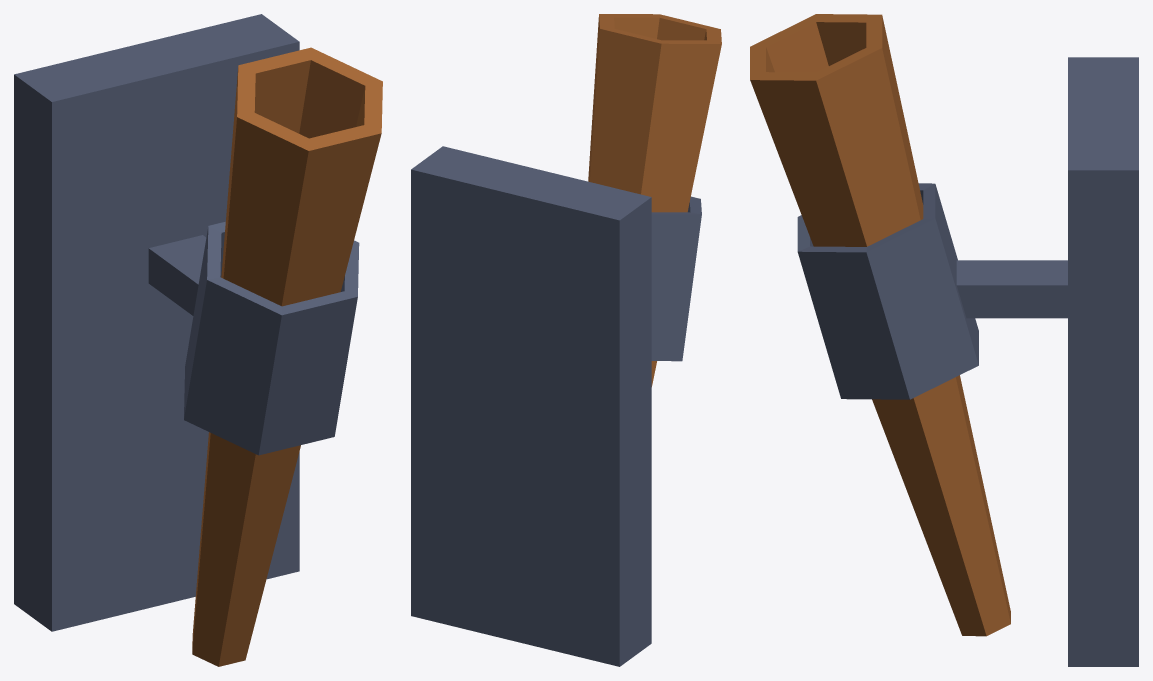
The model's file is tourch.fbx.
The picture shows the model from 3 angles, left to right: view 1: azimuth 30°, elevation 25°; view 2: azimuth 150°, elevation 25°; view 3: azimuth 270°, elevation 25°; orthographic projection. The views are drawn at different scales.
Parts seen in each view (by area): view 1: torch; view 2: torch; view 3: torch.
Boxes of the visible parts, box(x1,y1,x2,y2) form: torch: box(14, 14, 382, 666); torch: box(411, 14, 721, 666); torch: box(750, 14, 1138, 666).
Bounding box in the file's own units: 122 × 300 × 177.
